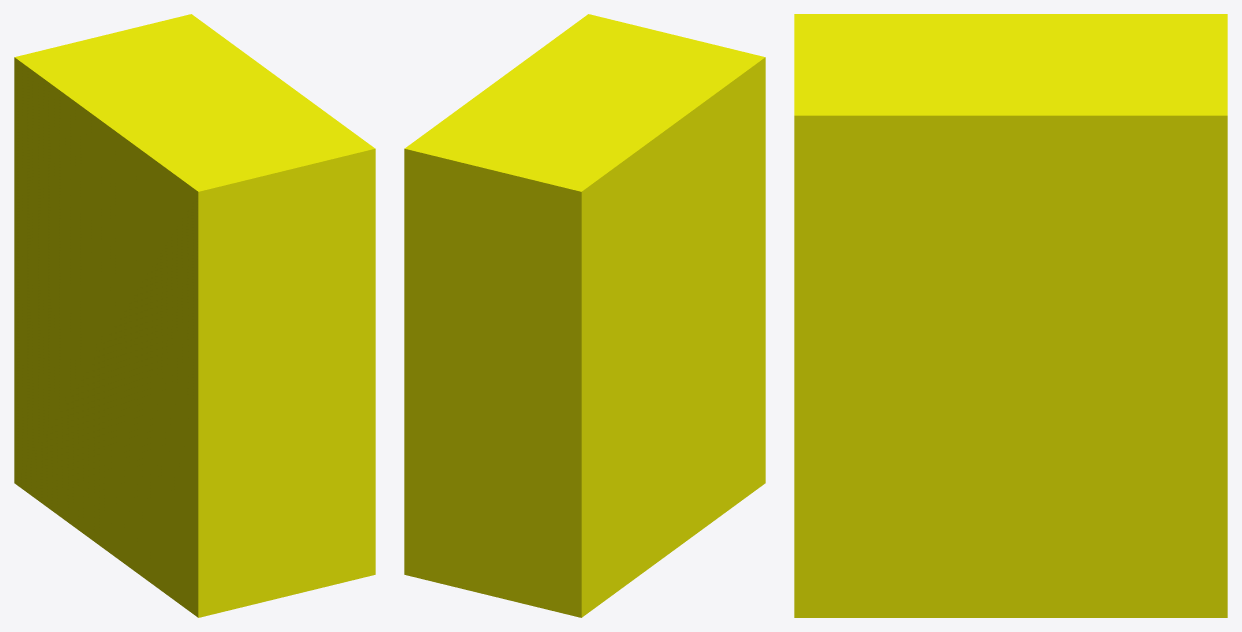
Rendered from sm_hana_swgr_c_1000x1800x2300_1d.glb.
The picture shows the model from 3 angles, left to right: view 1: azimuth 30°, elevation 25°; view 2: azimuth 150°, elevation 25°; view 3: azimuth 270°, elevation 25°; orthographic projection. The views are drawn at different scales.
Parts seen in each view (by area): view 1: sm_hana_swgr_c_1000x1800x2300_1d; view 2: sm_hana_swgr_c_1000x1800x2300_1d; view 3: sm_hana_swgr_c_1000x1800x2300_1d.
Part boxes in pixels (left/top/right/bottom): sm_hana_swgr_c_1000x1800x2300_1d: left=14, top=14, right=375, bottom=617; sm_hana_swgr_c_1000x1800x2300_1d: left=404, top=14, right=765, bottom=617; sm_hana_swgr_c_1000x1800x2300_1d: left=794, top=14, right=1227, bottom=617.
Bounding box in the file's own units: 1 × 2.3 × 1.8.
1 material, 1 textured.
